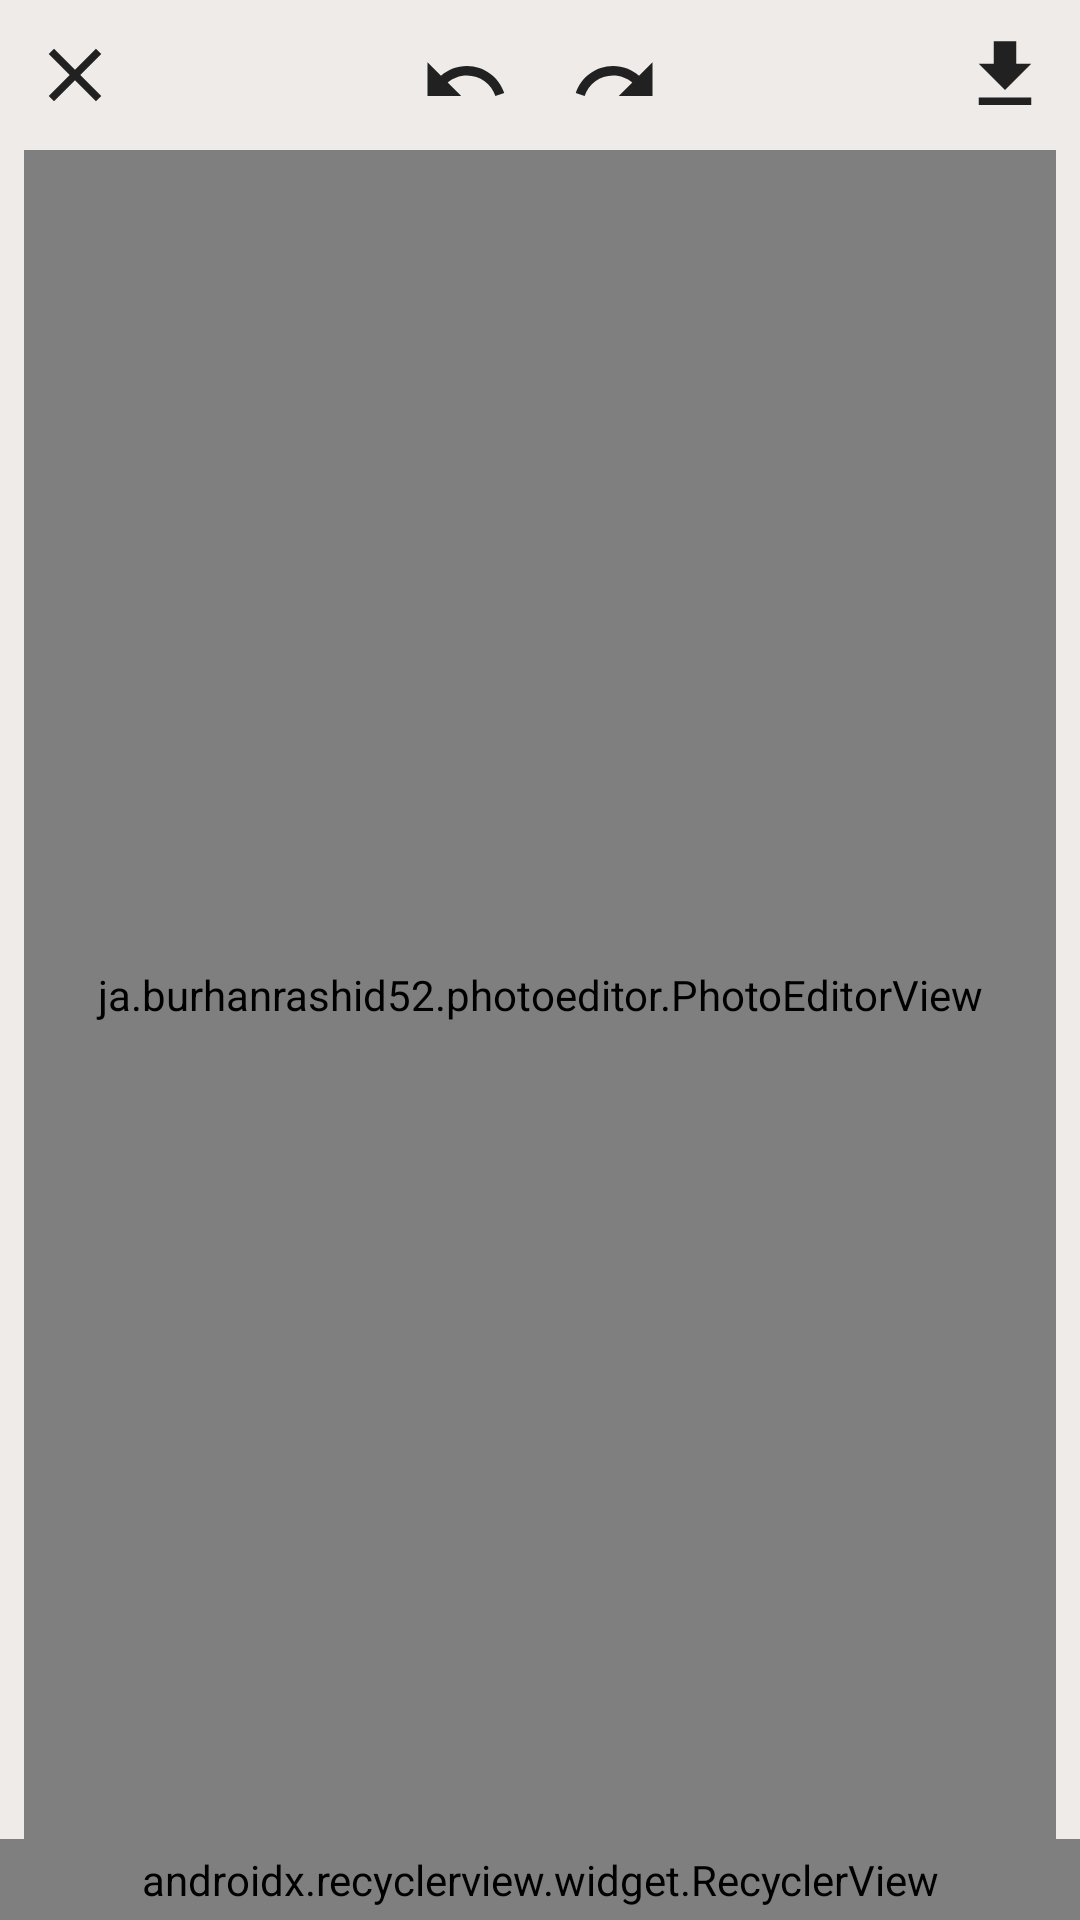

Icon click points for this 1080x1920 phone screenshot, format (x,y):
close: (75,75)
redo: (614,79)
save: (1005,73)
undo: (465,79)
